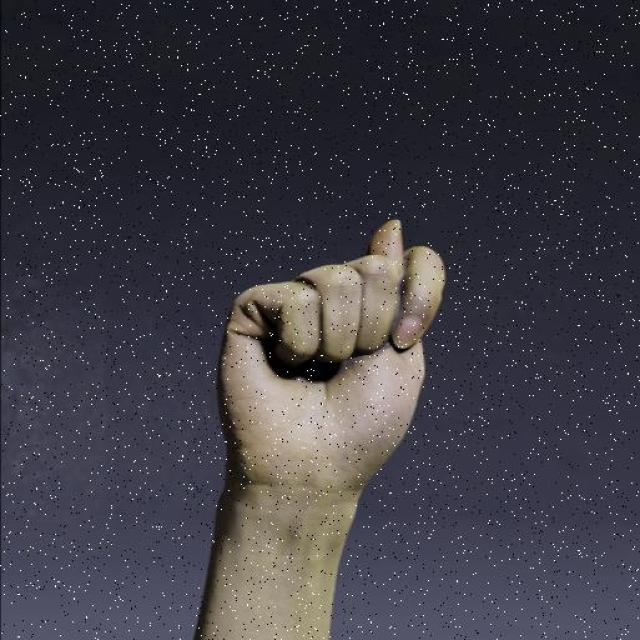T: (210, 216, 449, 508)
